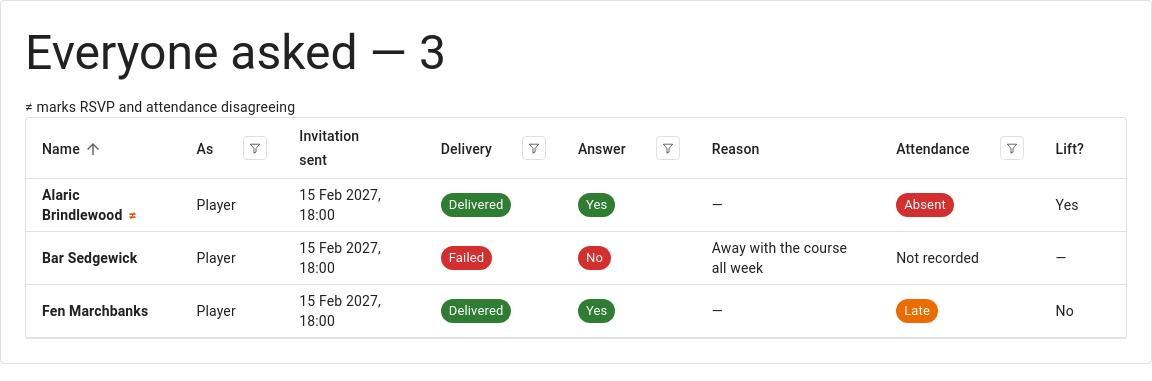
Test: the column funnels › opens the roster's menu: All, then the column's choices
Click the button named "Filter Answer". click: [668, 148]
box: [656,136,680,160]
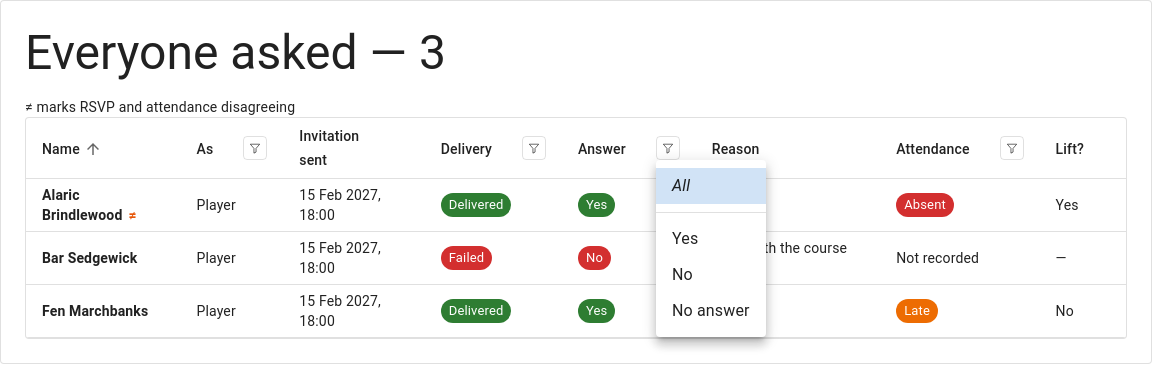
Result: the menu items read "All", "Yes", "No", "No answer", in this order at [656,168,766,204]; [672,229,698,248]; [672,265,693,284]; [672,301,750,320]
